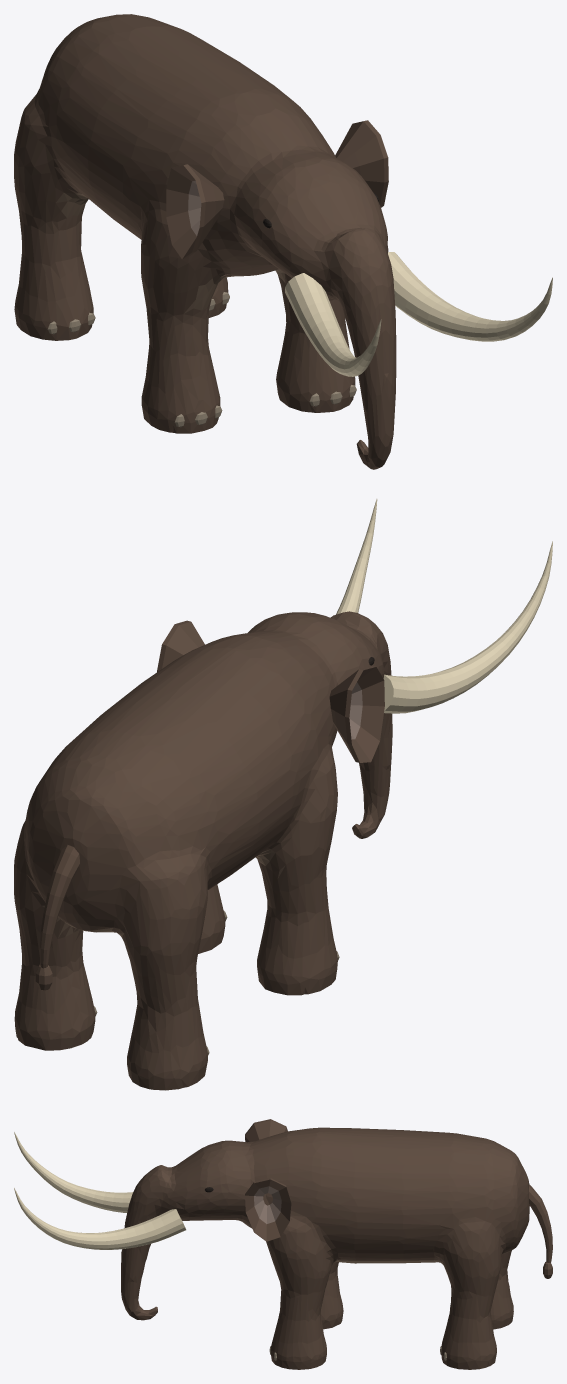
The picture shows the model from 3 angles, top to bottom: view 1: azimuth 30°, elevation 25°; view 2: azimuth 150°, elevation 25°; view 3: azimuth 270°, elevation 25°; orthographic projection. The views are drawn at different scales.
Parts seen in each view (by area): view 1: integrated-skin, upper-tusk-1, upper-tusk--1, ear-left, ear-right; view 2: integrated-skin, upper-tusk--1, ear-left, tail, upper-tusk-1, ear-right; view 3: integrated-skin, upper-tusk-1, ear-right, upper-tusk--1, tail, ear-left.
Boxes of the visible parts, x1=… form: integrated-skin: x1=14, y1=14, x2=396, y2=469; upper-tusk-1: x1=388, y1=252, x2=552, y2=341; upper-tusk--1: x1=285, y1=273, x2=381, y2=376; ear-left: x1=166, y1=164, x2=224, y2=259; ear-right: x1=335, y1=120, x2=388, y2=207; integrated-skin: x1=14, y1=611, x2=392, y2=1090; upper-tusk--1: x1=383, y1=541, x2=552, y2=713; ear-left: x1=329, y1=666, x2=384, y2=762; tail: x1=39, y1=845, x2=79, y2=968; upper-tusk-1: x1=336, y1=499, x2=377, y2=614; ear-right: x1=157, y1=620, x2=204, y2=671; integrated-skin: x1=121, y1=1127, x2=529, y2=1369; upper-tusk-1: x1=14, y1=1188, x2=186, y2=1249; ear-right: x1=245, y1=1178, x2=291, y2=1241; upper-tusk--1: x1=14, y1=1132, x2=133, y2=1212; tail: x1=529, y1=1184, x2=552, y2=1262; ear-left: x1=245, y1=1119, x2=287, y2=1142.
Size of the model in its own units: 1.8 by 2.74 by 6.49.
